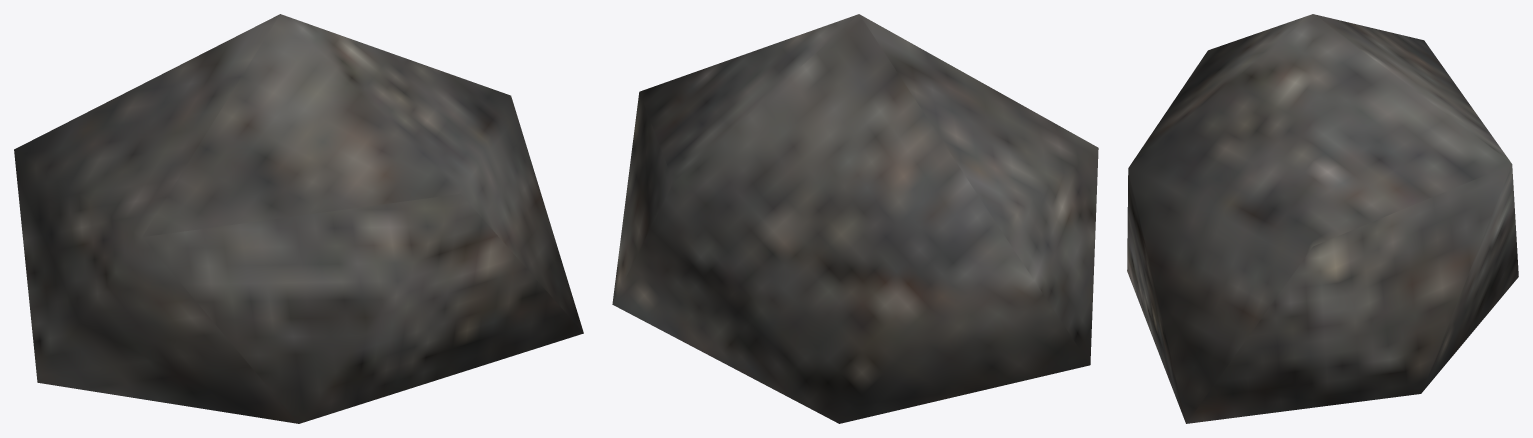
File: SM_HarvestRock_Chip01.fbx
The picture shows the model from 3 angles, left to right: view 1: azimuth 30°, elevation 25°; view 2: azimuth 150°, elevation 25°; view 3: azimuth 270°, elevation 25°; orthographic projection. The views are drawn at different scales.
Visible parts, largest first — view 1: SM_HarvestRock_Chip01; view 2: SM_HarvestRock_Chip01; view 3: SM_HarvestRock_Chip01.
Part boxes in pixels (<box>): SM_HarvestRock_Chip01: <box>14,14,583,423</box>; SM_HarvestRock_Chip01: <box>612,14,1098,423</box>; SM_HarvestRock_Chip01: <box>1127,14,1518,423</box>.
Bounding box in the file's own units: 22.54 × 17.22 × 18.24.
Materials: 1 (1 with a texture image).
